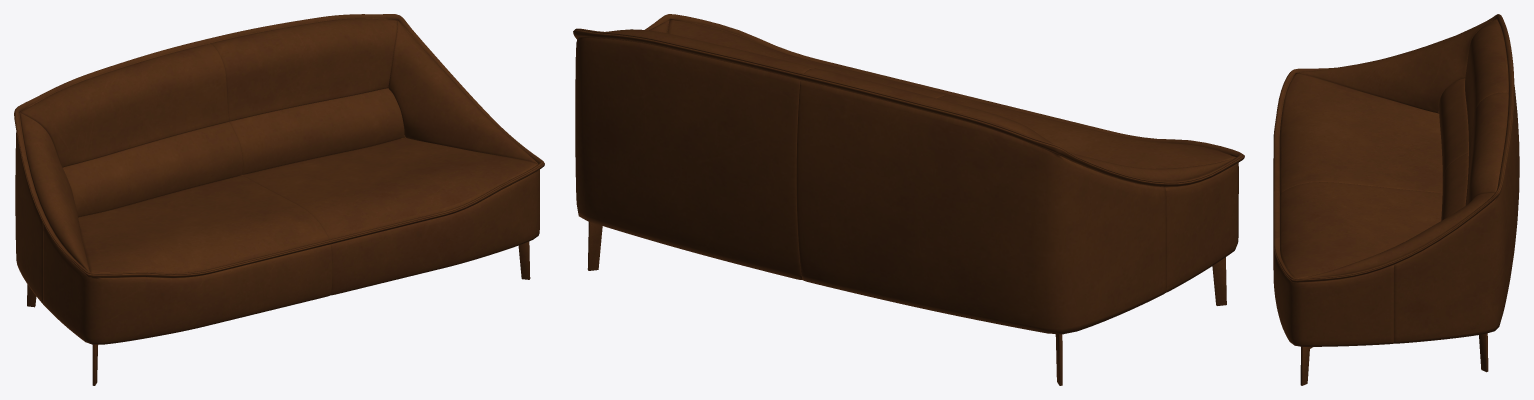
The model's file is Toska_LowPoly.obj.
The picture shows the model from 3 angles, left to right: view 1: azimuth 30°, elevation 25°; view 2: azimuth 150°, elevation 25°; view 3: azimuth 270°, elevation 25°; orthographic projection. The views are drawn at different scales.
Visible parts, largest first — view 1: PR_Sofa_Low; view 2: PR_Sofa_Low; view 3: PR_Sofa_Low.
Boxes of the visible parts, <box> form: PR_Sofa_Low: <box>14,14,544,385</box>; PR_Sofa_Low: <box>573,14,1244,385</box>; PR_Sofa_Low: <box>1273,14,1519,385</box>.
Size of the model in its own units: 18.93 by 8.29 by 9.34.
2 materials, 2 textured.
